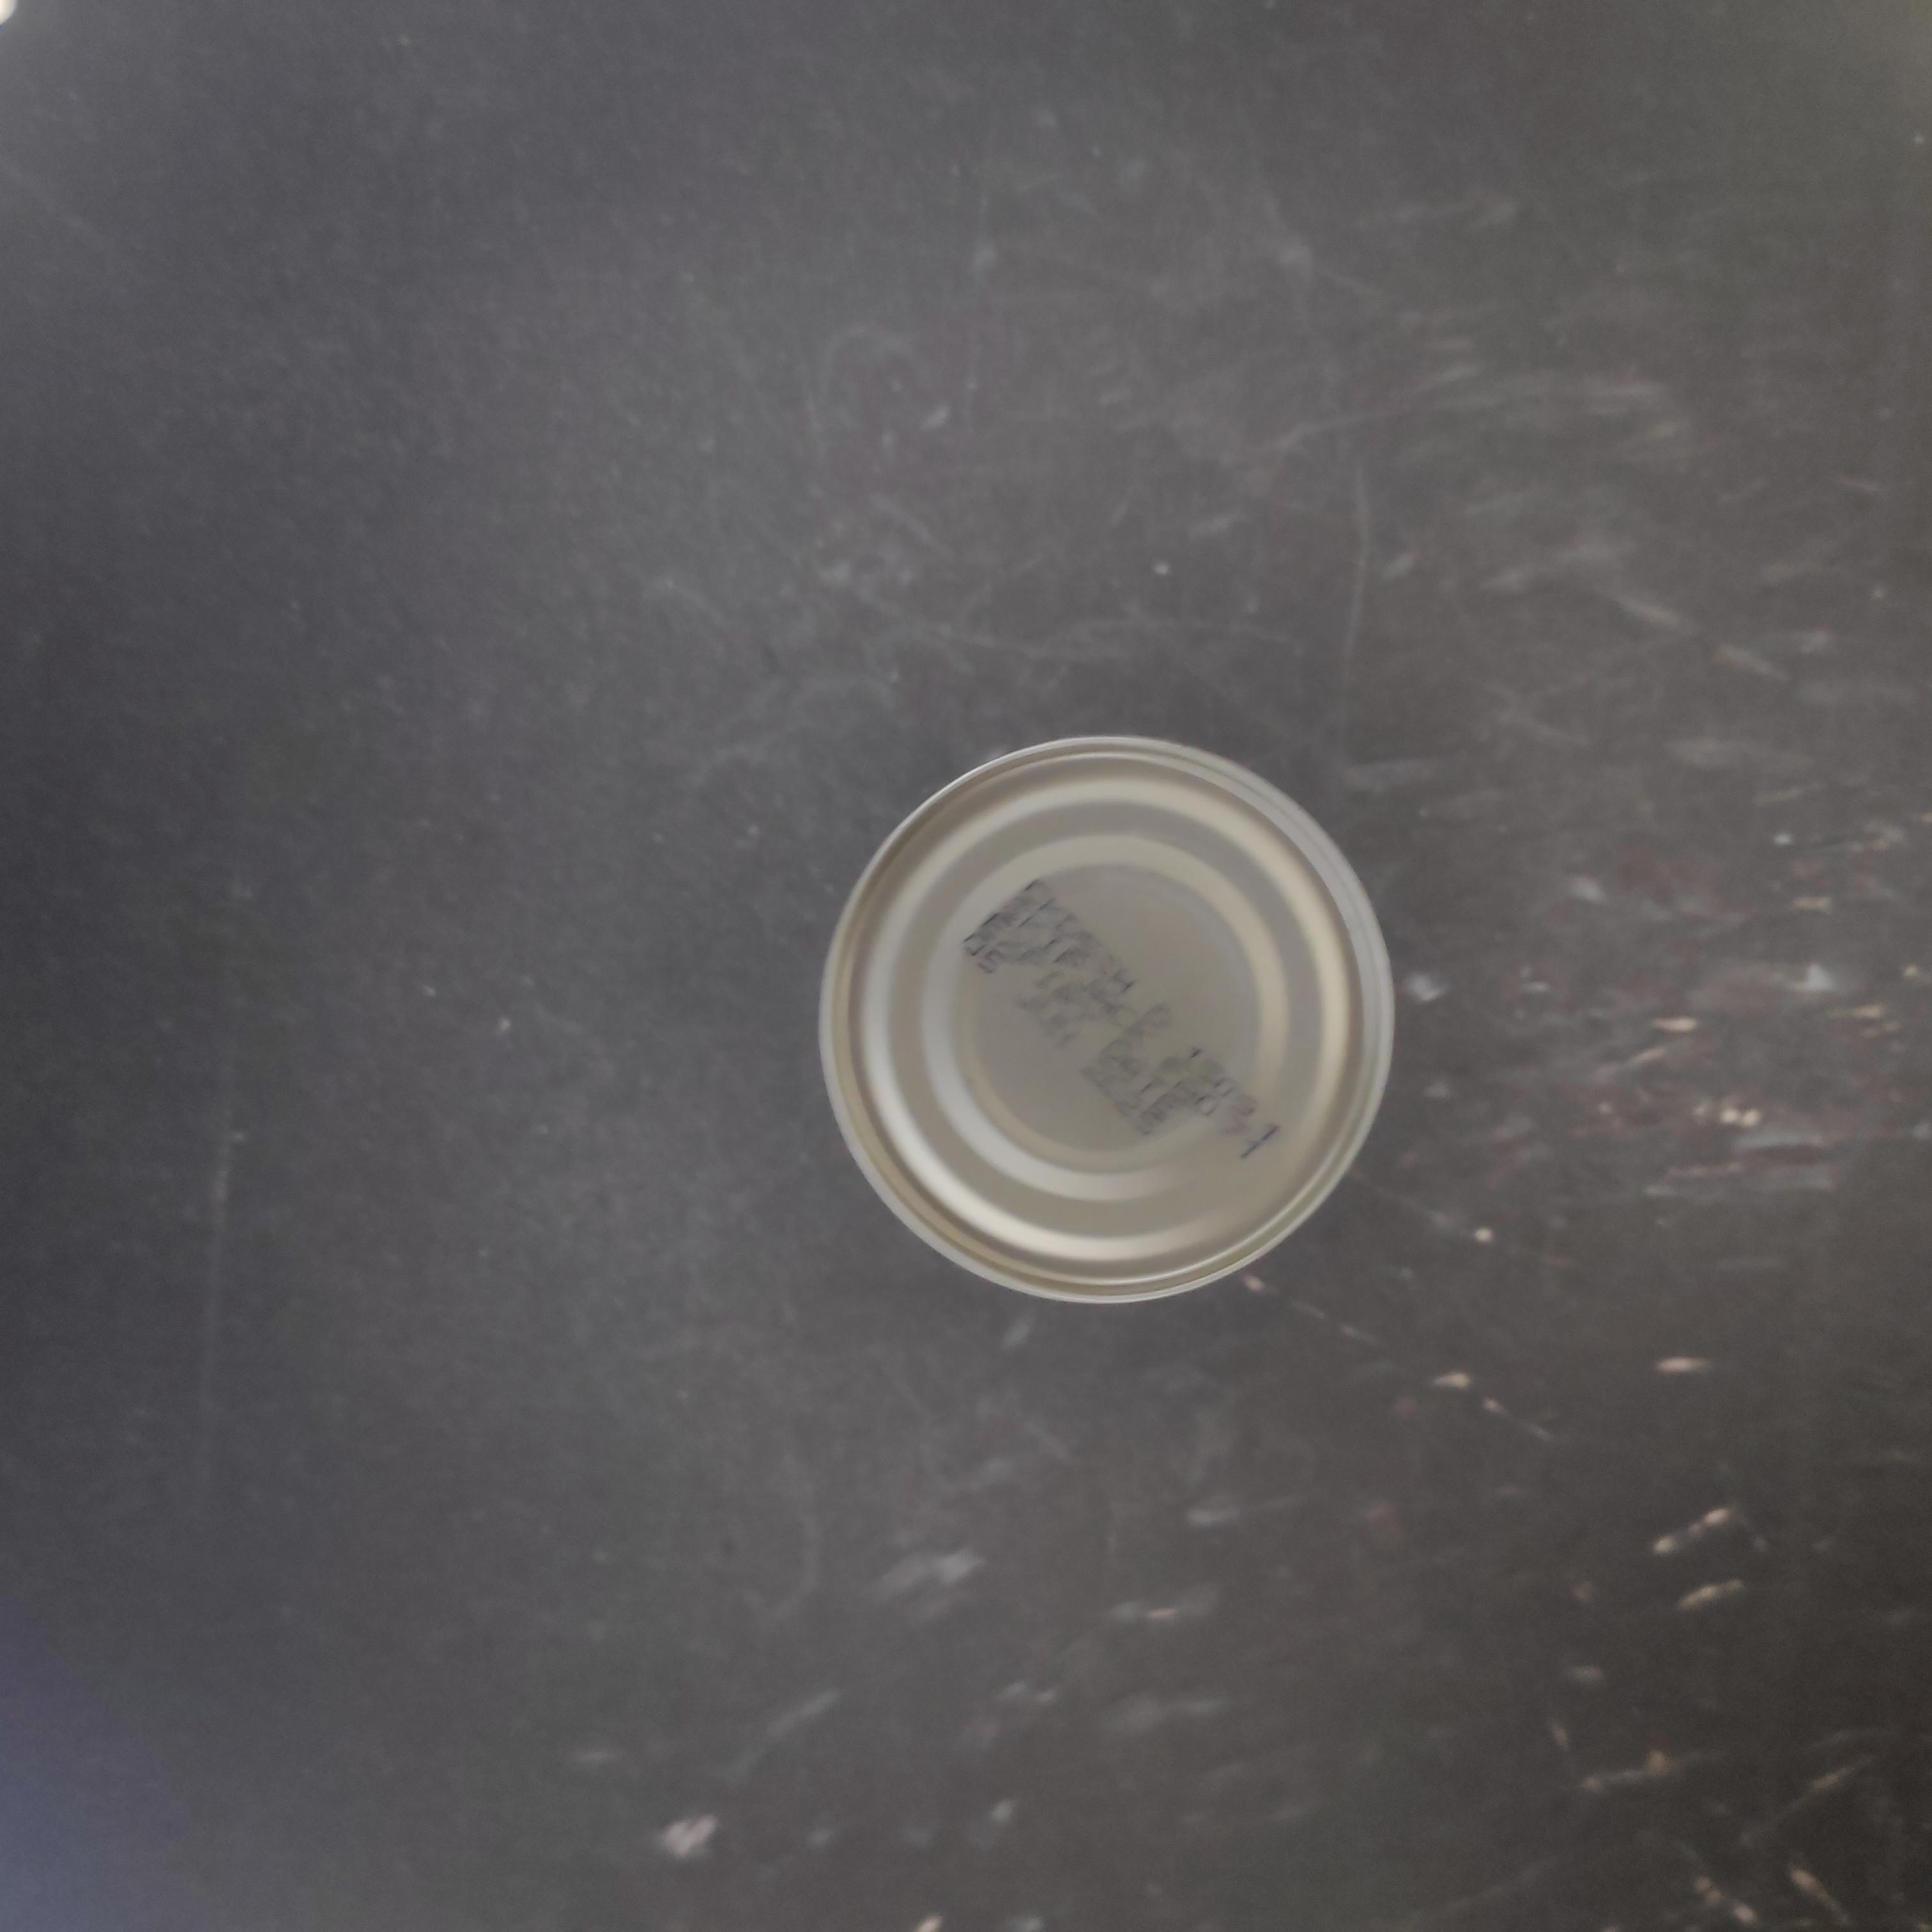No defect: (529, 610, 1122, 1210)
